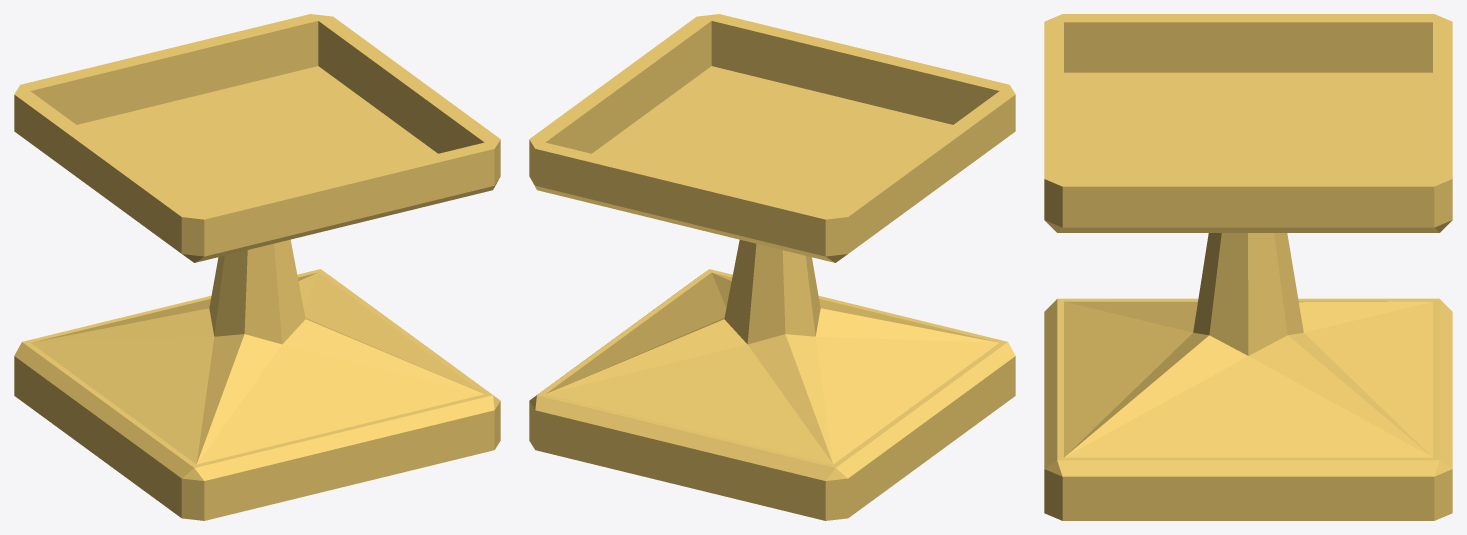
Rendered from Stèle_Taquin.fbx.
3 renders of one model, left to right at view 1: azimuth 30°, elevation 25°; view 2: azimuth 150°, elevation 25°; view 3: azimuth 270°, elevation 25°, orthographic. The views are drawn at different scales.
Parts seen in each view (by area): view 1: Stèle 002; view 2: Stèle 002; view 3: Stèle 002.
Boxes of the visible parts, bbox=[...] form: Stèle 002: bbox=[14, 14, 500, 520]; Stèle 002: bbox=[529, 14, 1015, 520]; Stèle 002: bbox=[1044, 14, 1452, 520].
Size of the model in its own units: 1.11 by 1 by 1.11.
